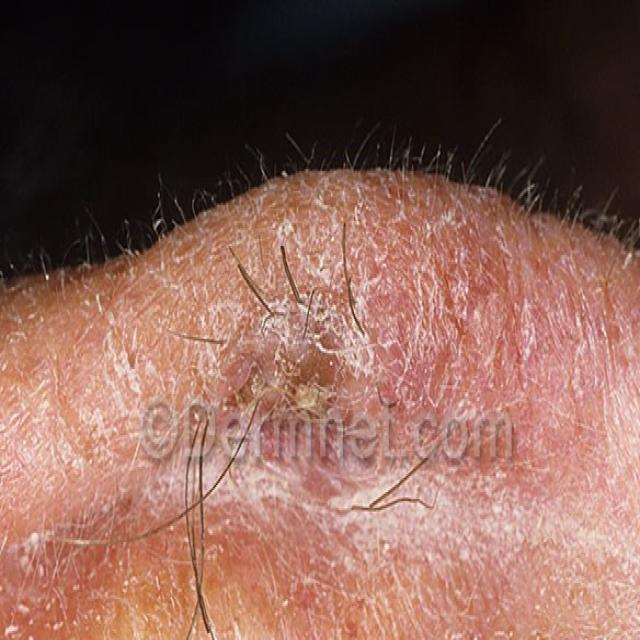Vascular Tumors: (231, 191, 396, 486)
